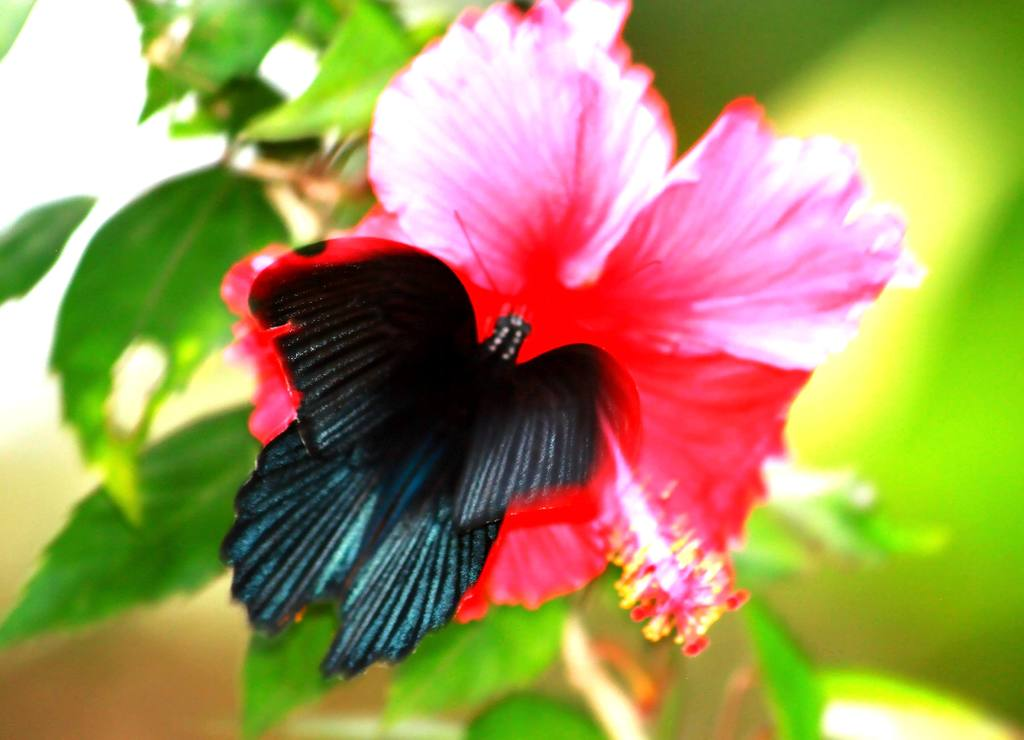Butterfly: (223, 239, 616, 688)
